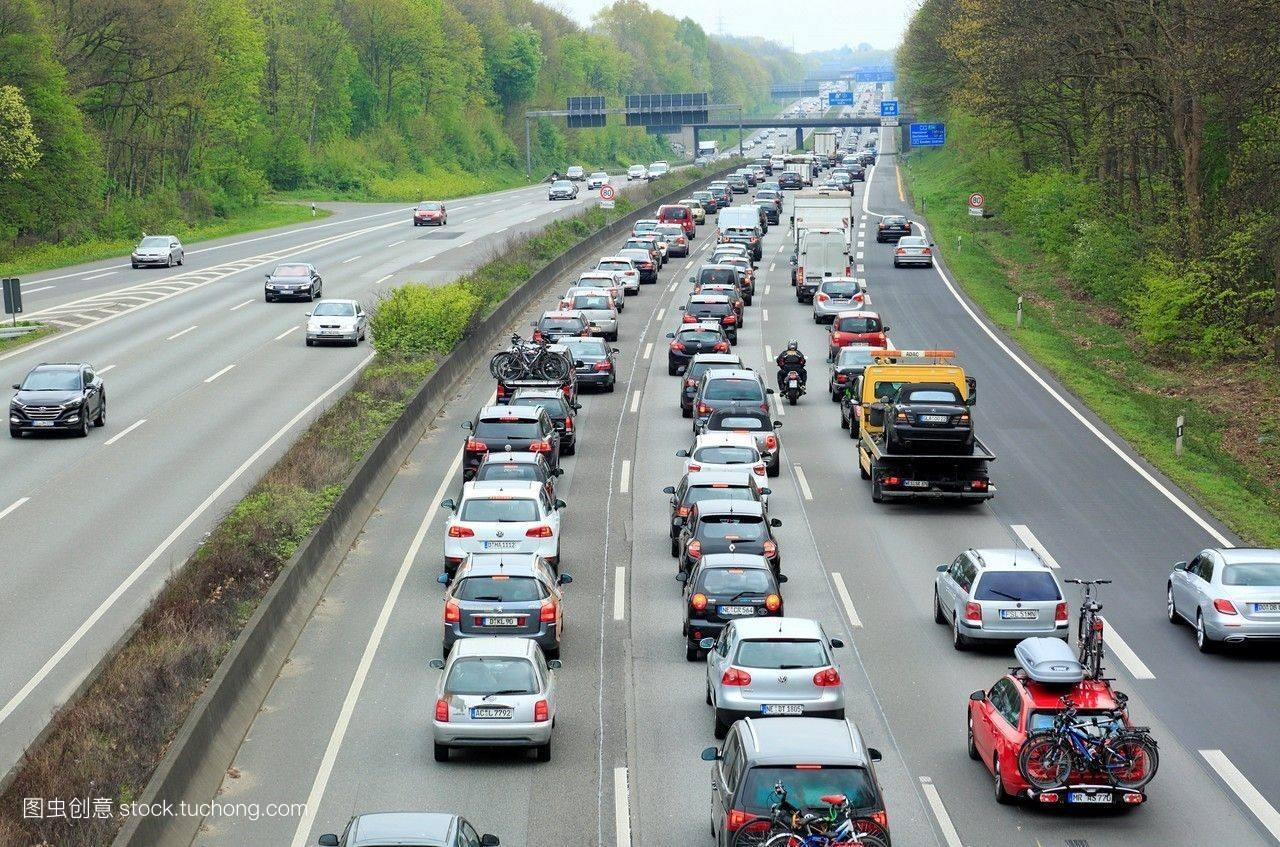car: (423, 636, 561, 767), (697, 610, 843, 733), (436, 552, 572, 666), (932, 547, 1069, 658), (674, 554, 788, 664), (8, 360, 107, 439), (691, 366, 776, 439), (301, 299, 369, 351)
suv: (440, 481, 565, 580), (652, 202, 695, 241)
truck: (852, 346, 997, 510), (791, 185, 852, 282)
